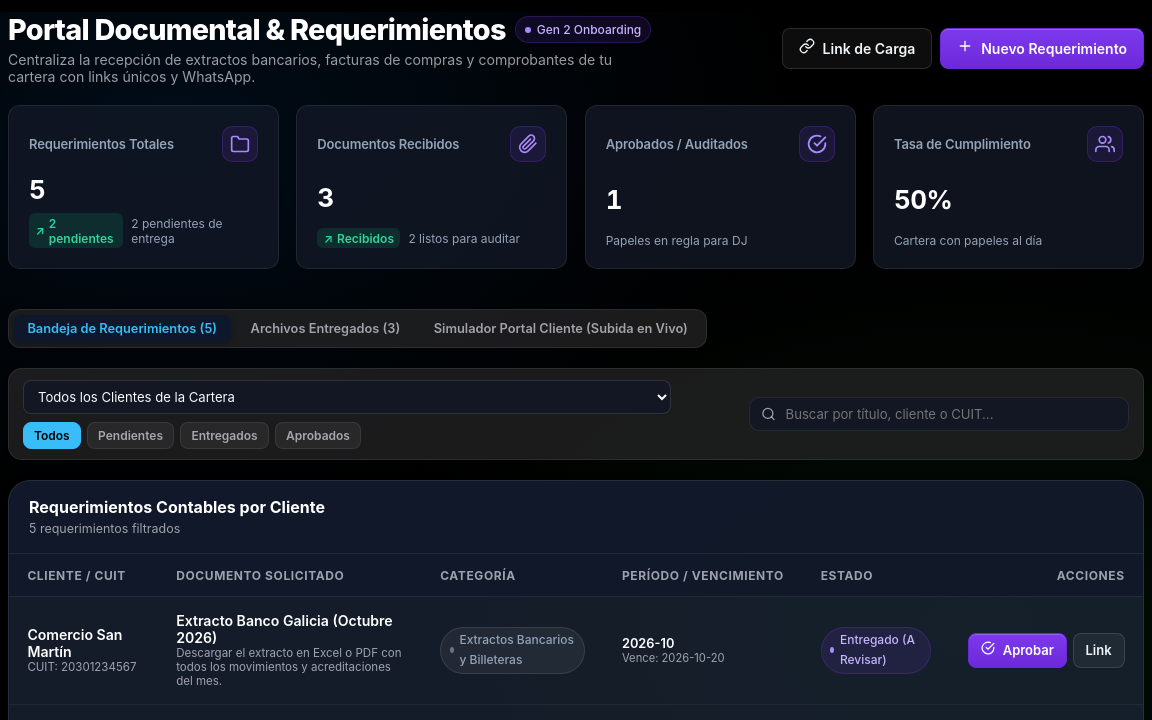
Test case: AccountantDocPortal Component › permite aprobar un requerimiento entregado
What coordinates should you click on to do the following:
click the button "Aprobar"
I would click on:
 (1017, 650)
Its box is [968,633,1067,668].
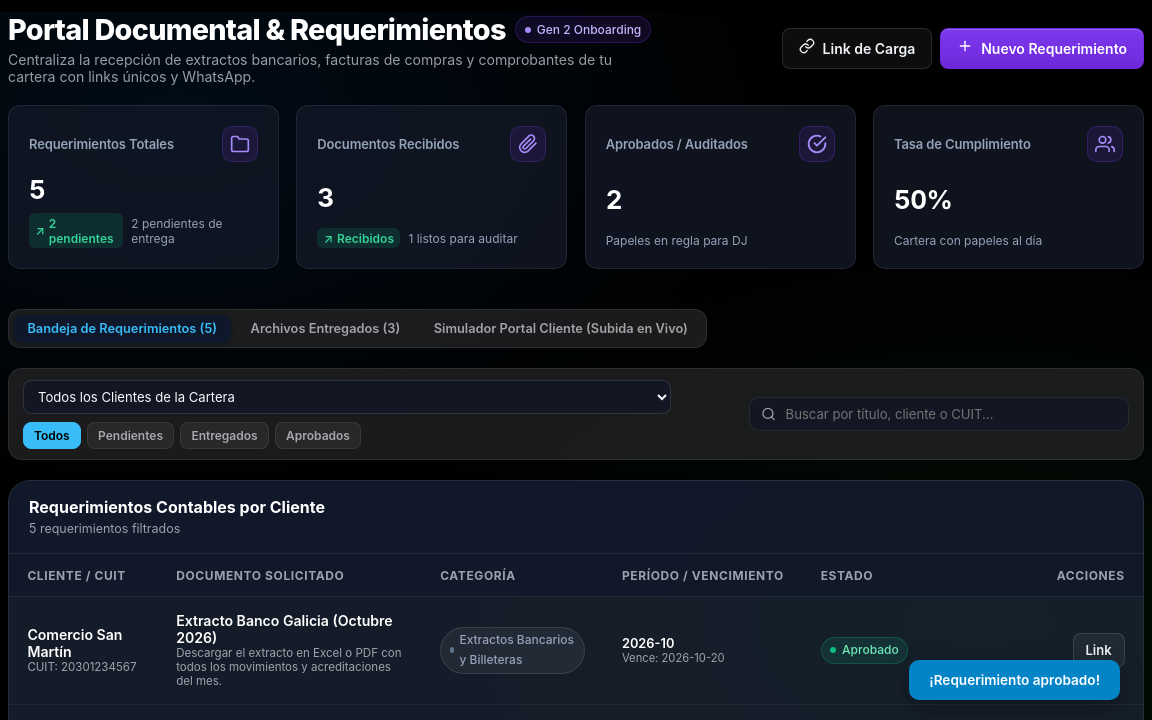
Expected: the text "¡Requerimiento aprobado!" is shown, [909,660,1120,700]
